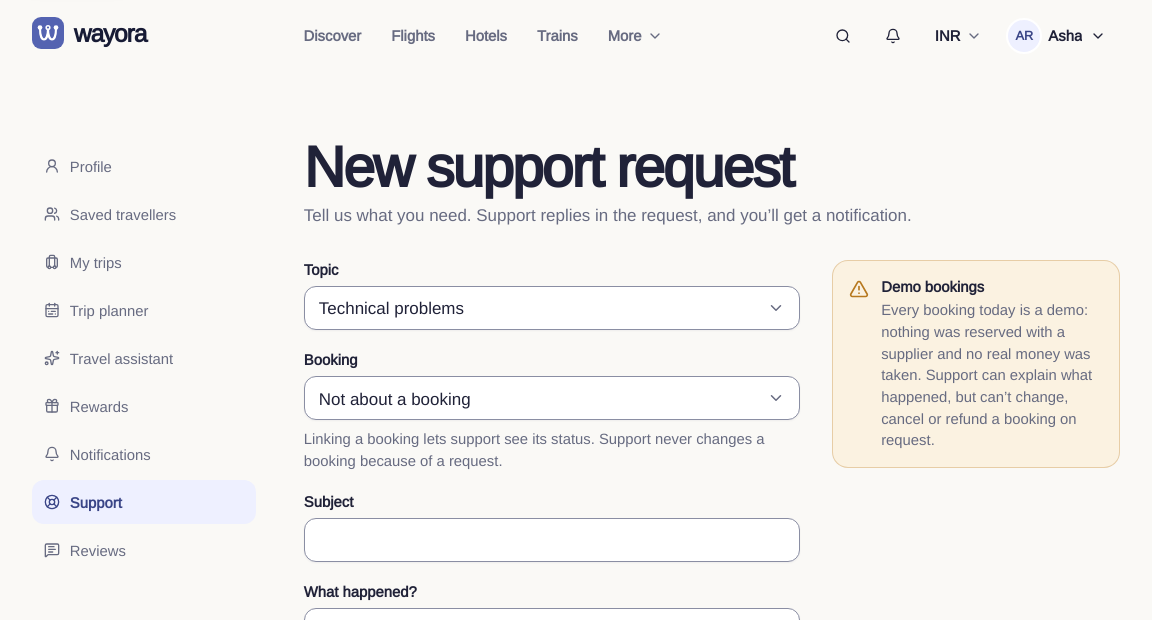
Test: customer support › shows server-side field errors
The width and height of the screenshot is (1152, 620).
Expected: the heading "New support request" is shown, [304,131,792,199]
Expected: the dropdown labelled "Topic" shows "Technical problems", [305,287,799,329]
Type "Please fail this" into the field labelled "Subject" at (552,540), box [319,519,785,561]
(page scrolled)
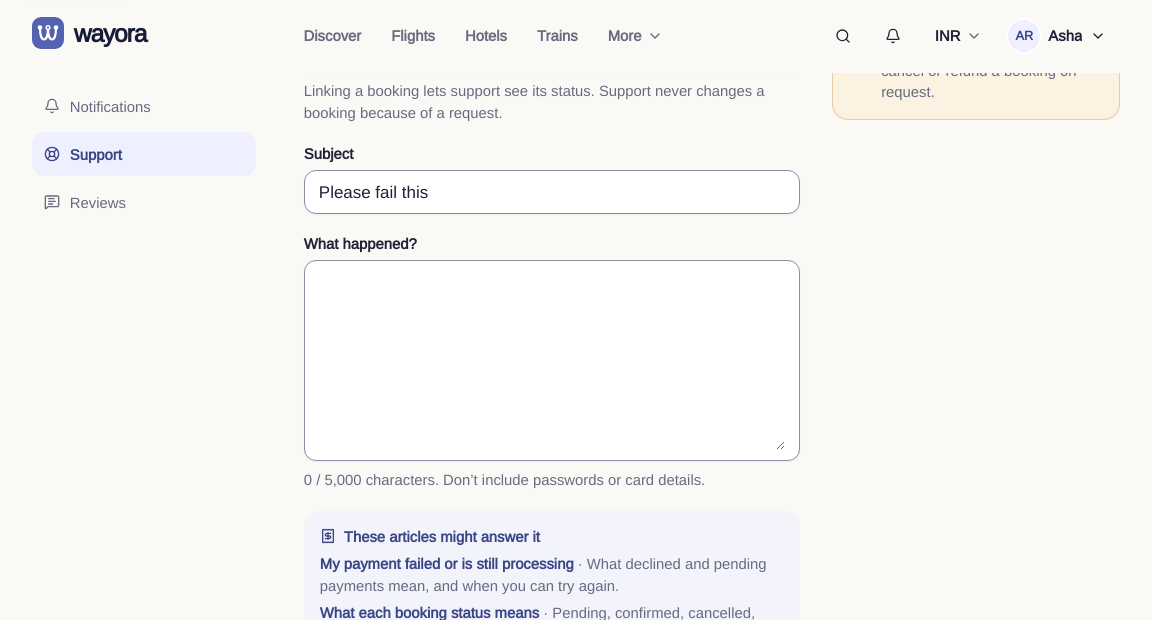
Type "The page keeps showing an error when I open it." into the text box labelled "What happened?" at (552,361), box [319,271,785,450]
(page scrolled)
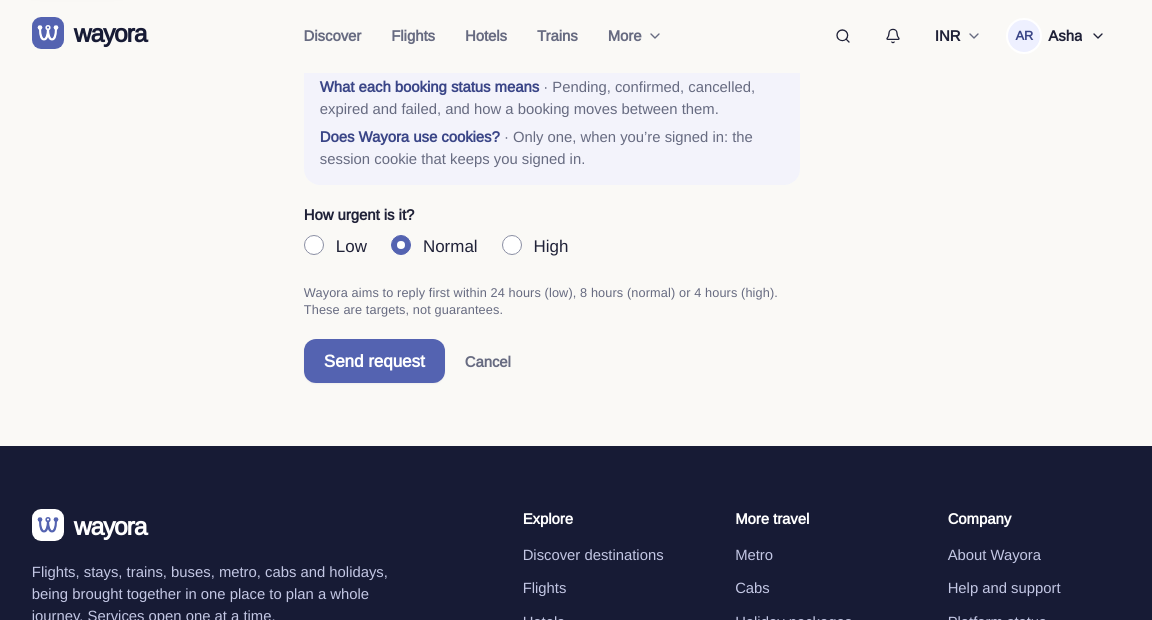
Click the button "Send request" at (374,361), box [304,339,445,383]
(page scrolled)
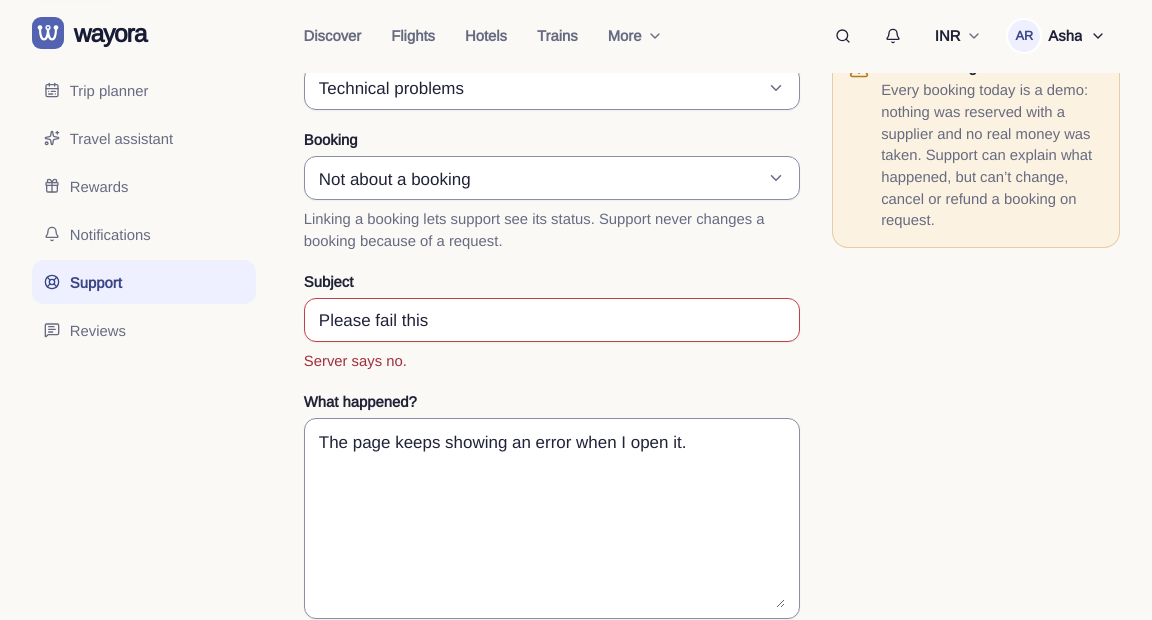
Now the text "Server says no." is shown, box [304,351,407,369]
